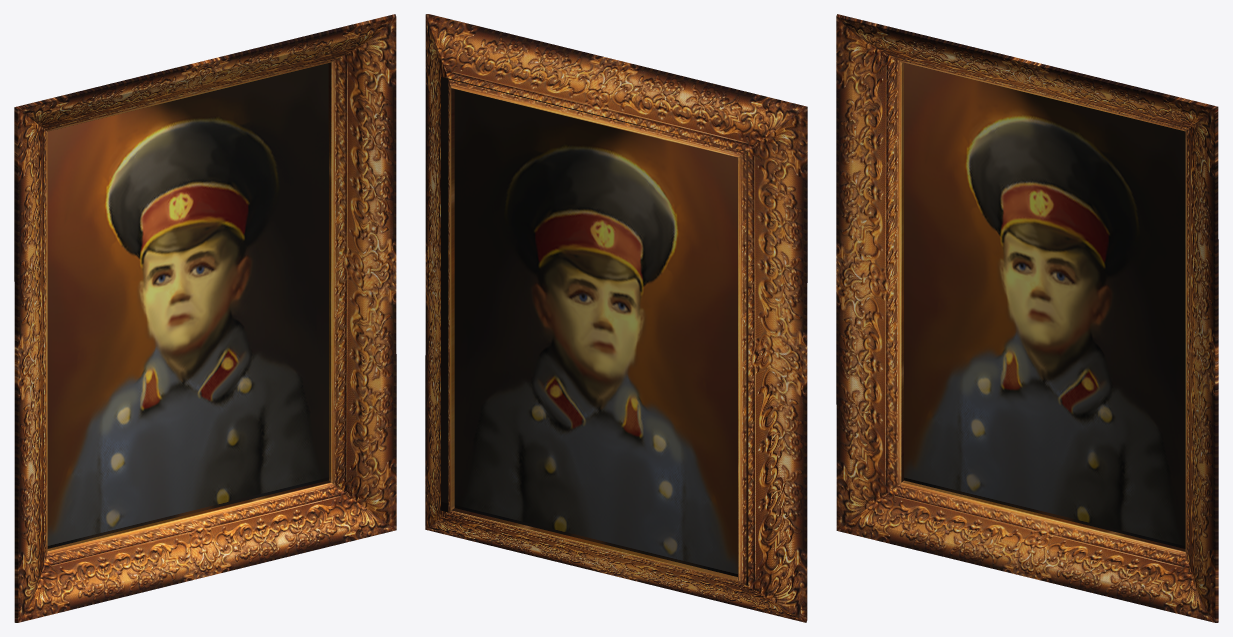
The model's file is Painting_Colnel2.fbx.
3 views of the same model, side by side, from view 1: azimuth 30°, elevation 25°; view 2: azimuth 150°, elevation 25°; view 3: azimuth 330°, elevation 25° (orthographic).
Visible parts, largest first — view 1: Painting_Patriot.001; view 2: Painting_Patriot.001; view 3: Painting_Patriot.001.
Boxes of the visible parts, x1=… form: Painting_Patriot.001: x1=14, y1=14, x2=396, y2=622; Painting_Patriot.001: x1=425, y1=14, x2=807, y2=622; Painting_Patriot.001: x1=836, y1=14, x2=1218, y2=622.
Size of the model in its own units: 81.43 by 105 by 8.65.
